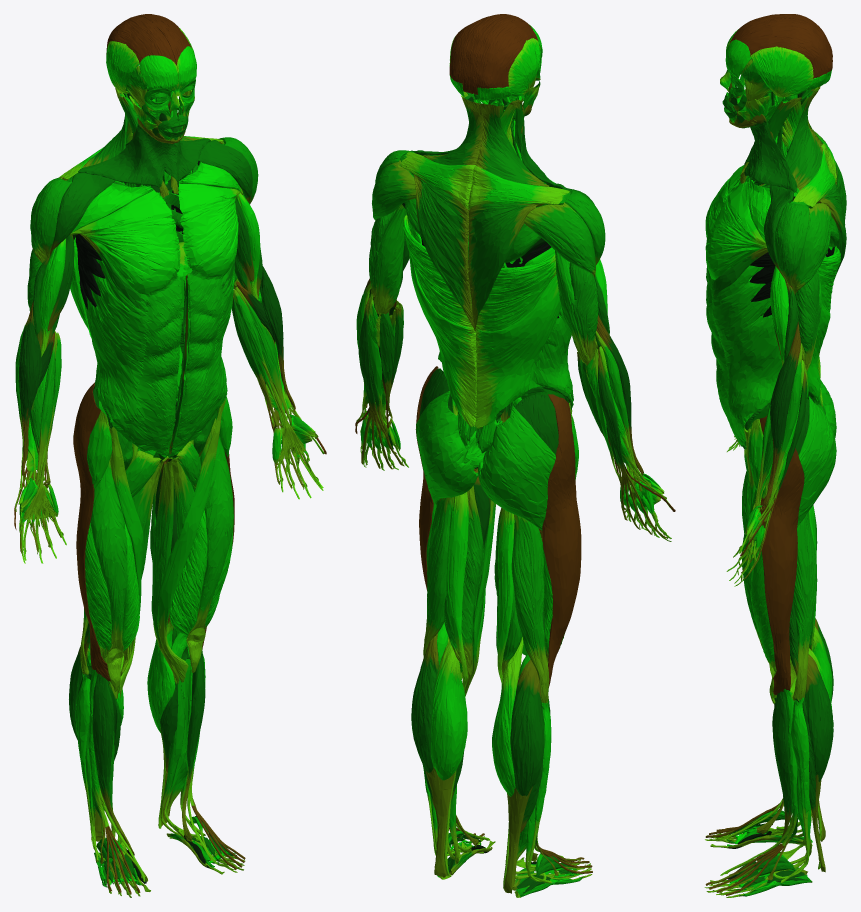
File: muscles.glb
The picture shows the model from 3 angles, left to right: view 1: azimuth 30°, elevation 25°; view 2: azimuth 150°, elevation 25°; view 3: azimuth 270°, elevation 25°; orthographic projection. The views are drawn at different scales.
Parts seen in each view (by area): view 1: abdominals|R, pectoralis|R, quadriceps|R, abdominals|L, forearm_muscles|R, quadriceps|L, forearm_muscles|L, face_muscles|R, pectoralis|L, calf|L, hip_muscles|R, adductors|L (+24 smaller); view 2: latissimus|R, trapezius|R, calf|L, hip_muscles|R, calf|R, trapezius|L, hamstrings|L, hamstrings|R, forearm_muscles|R, gluteus|R, latissimus|L, forearm_muscles|L (+19 smaller); view 3: abdominals|L, face_muscles|L, hip_muscles|L, forearm_muscles|L, deltoid|L, pectoralis|L, leg_muscles|L, calf|L, hamstrings|L, trapezius|L, gluteus|L, neck_muscles|L (+21 smaller).
Boxes of the visible parts, x1,y1,x2,y2 form: abdominals|R: (87,260,182,461); pectoralis|R: (69,183,180,309); quadriceps|R: (85,457,139,691); abdominals|L: (169,265,234,458); forearm_muscles|R: (14,301,66,563); quadriceps|L: (169,418,233,672); forearm_muscles|L: (232,266,326,499); face_muscles|R: (106,15,179,140); pectoralis|L: (178,161,243,288); calf|L: (147,621,244,874); hip_muscles|R: (73,382,146,681); adductors|L: (151,441,201,683); latissimus|R: (475,254,561,428); trapezius|R: (468,103,569,330); calf|L: (411,622,495,877); hip_muscles|R: (512,389,581,687); calf|R: (492,637,592,893); trapezius|L: (401,97,483,330); hamstrings|L: (423,485,483,690); hamstrings|R: (494,508,549,703); forearm_muscles|R: (577,315,675,541); gluteus|R: (478,406,555,530); latissimus|L: (403,215,476,426); forearm_muscles|L: (355,278,408,470); abdominals|L: (706,265,815,449); face_muscles|L: (722,18,832,123); hip_muscles|L: (748,398,809,695); forearm_muscles|L: (726,321,808,586); deltoid|L: (764,185,831,294); pectoralis|L: (705,178,770,295); leg_muscles|L: (705,689,810,895); calf|L: (704,648,833,897); hamstrings|L: (789,510,817,700); trapezius|L: (785,86,846,278); gluteus|L: (797,396,836,526); neck_muscles|L: (729,92,799,193).
Bounding box in the file's own units: 0.66 × 1.7 × 0.2586.
